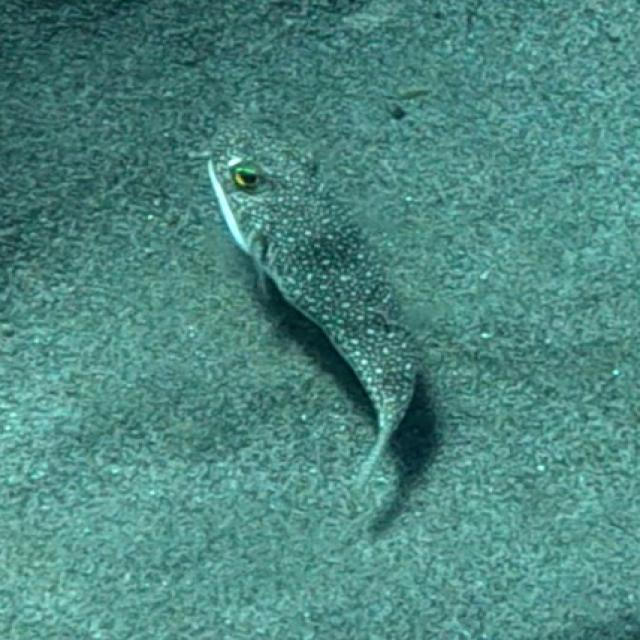Balik: (208, 131, 415, 483)
